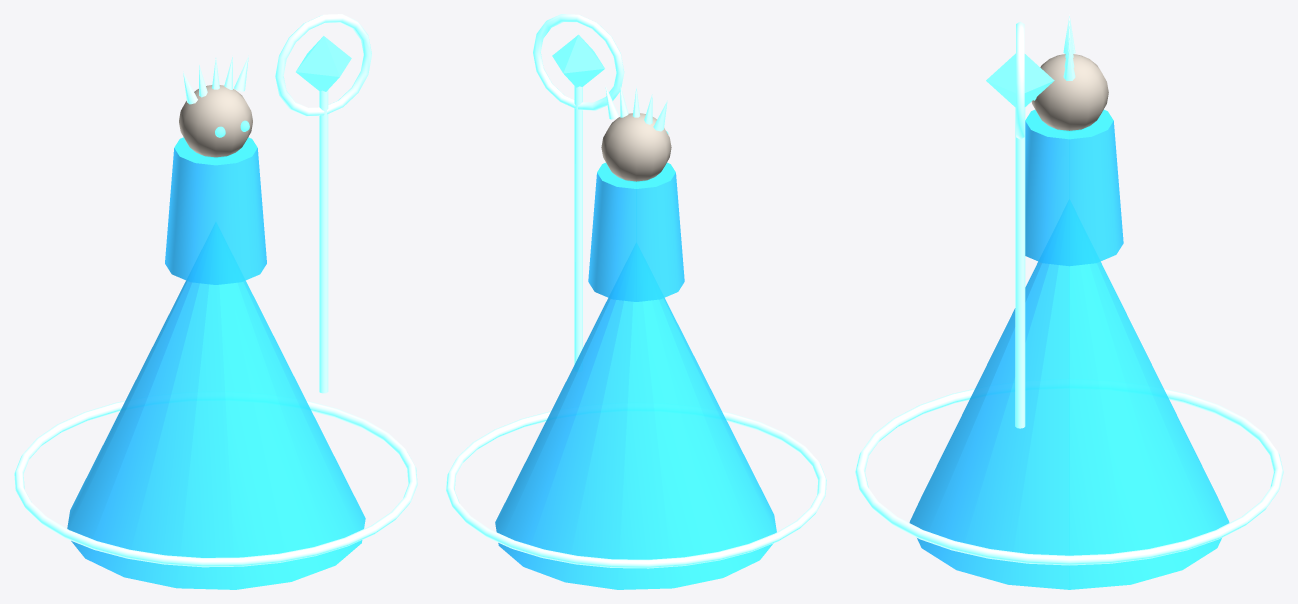
File: ice_queen.glb
3 renders of one model, left to right at view 1: azimuth 30°, elevation 25°; view 2: azimuth 150°, elevation 25°; view 3: azimuth 270°, elevation 25°, orthographic. The views are drawn at different scales.
Parts seen in each view (by area): view 1: ice_queen_ice_gown, ice_queen_crystalline_bodice, ice_queen_blizzard_halo, ice_queen_face, ice_queen_mesh_007, ice_queen_mesh_009, ice_queen_mesh_008; view 2: ice_queen_ice_gown, ice_queen_crystalline_bodice, ice_queen_blizzard_halo, ice_queen_face, ice_queen_mesh_007, ice_queen_mesh_009, ice_queen_mesh_008; view 3: ice_queen_ice_gown, ice_queen_crystalline_bodice, ice_queen_blizzard_halo, ice_queen_face, ice_queen_mesh_007, ice_queen_mesh_008, ice_queen_mesh_009.
Boxes of the visible parts, left/top/right/bottom form: ice_queen_ice_gown: left=67, top=280, right=365, bottom=589; ice_queen_crystalline_bodice: left=165, top=137, right=266, bottom=284; ice_queen_blizzard_halo: left=14, top=400, right=417, bottom=567; ice_queen_face: left=179, top=85, right=252, bottom=157; ice_queen_mesh_007: left=319, top=90, right=328, bottom=393; ice_queen_mesh_009: left=275, top=14, right=371, bottom=116; ice_queen_mesh_008: left=296, top=36, right=351, bottom=91; ice_queen_ice_gown: left=495, top=298, right=776, bottom=589; ice_queen_crystalline_bodice: left=588, top=162, right=684, bottom=301; ice_queen_blizzard_halo: left=446, top=411, right=826, bottom=568; ice_queen_face: left=601, top=113, right=671, bottom=181; ice_queen_mesh_007: left=574, top=86, right=582, bottom=364; ice_queen_mesh_009: left=533, top=14, right=624, bottom=110; ice_queen_mesh_008: left=552, top=34, right=604, bottom=87; ice_queen_ice_gown: left=909, top=261, right=1229, bottom=589; ice_queen_crystalline_bodice: left=1025, top=109, right=1123, bottom=266; ice_queen_blizzard_halo: left=855, top=388, right=1283, bottom=565; ice_queen_face: left=1031, top=54, right=1108, bottom=130; ice_queen_mesh_007: left=1015, top=107, right=1025, bottom=428; ice_queen_mesh_008: left=986, top=53, right=1054, bottom=107; ice_queen_mesh_009: left=1016, top=21, right=1024, bottom=139.
Size of the model in its own units: 1.91 by 2.66 by 1.91.
